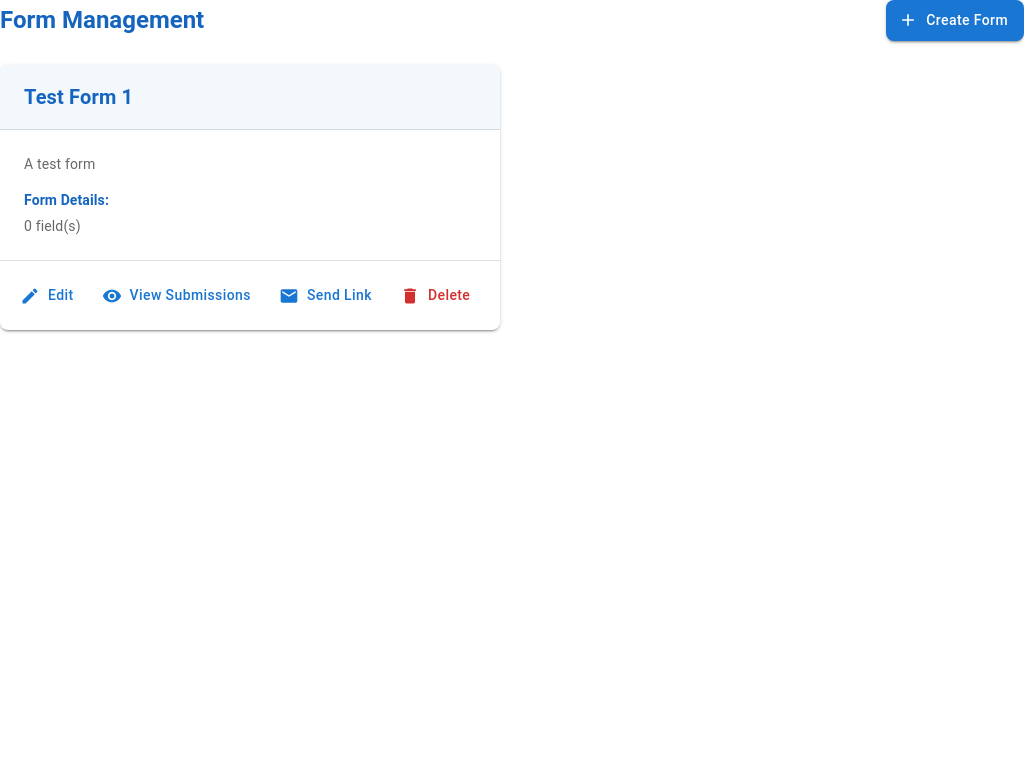
it: FormManagement › shows error if no users selected in Send Form Link dialog
Expected: the heading "Test Form 1" is shown, x1=24 y1=84 x2=133 y2=108
Note: Open dialog
Click the button "Send Link". click: x=327, y=296
box: x1=275 y1=277 x2=380 y2=314
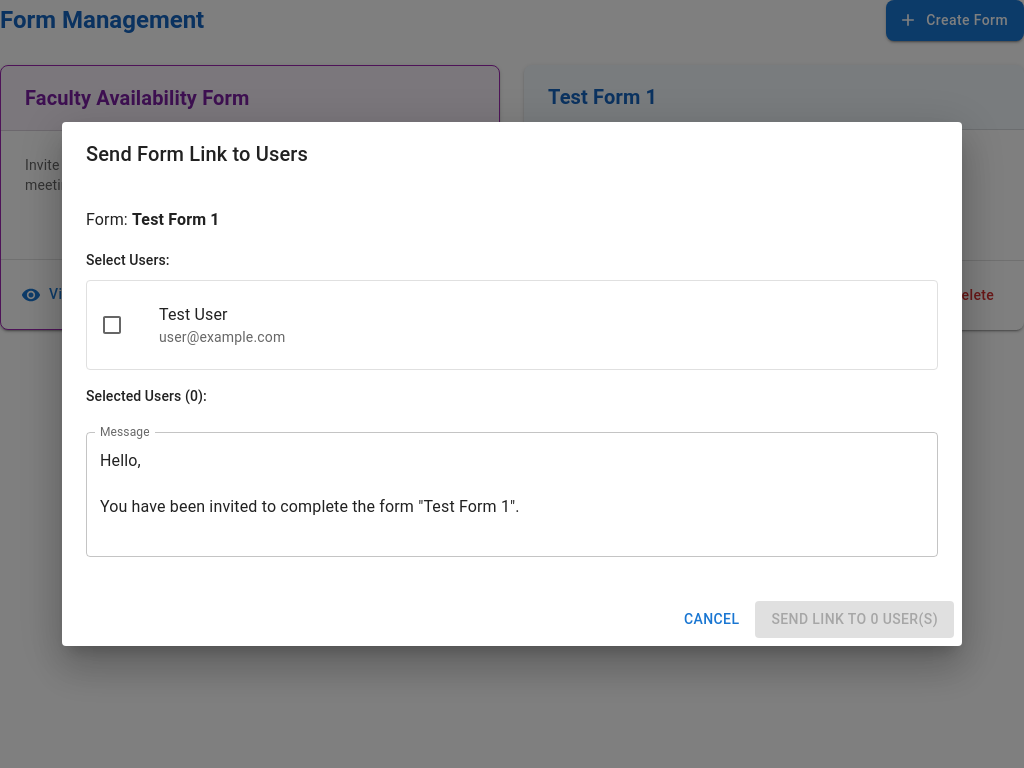
Expected: the button "Send Link to 0 User(s)" is disabled, x1=755 y1=601 x2=954 y2=638
